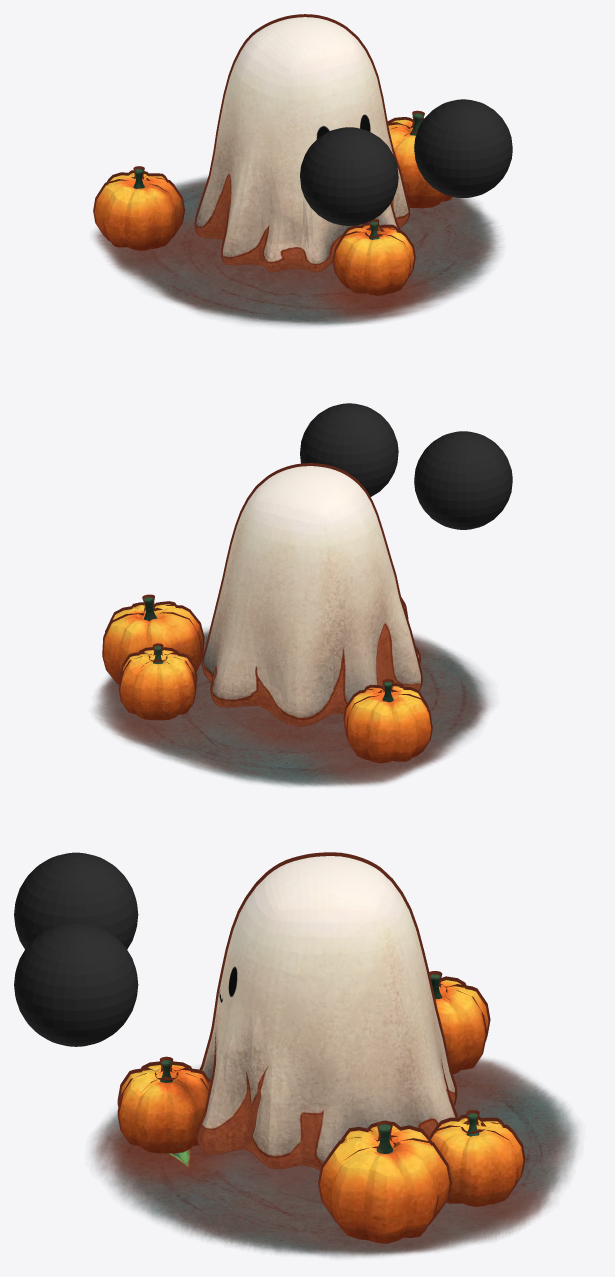
File: owl.glb
3 views of the same model, one above another, from view 1: azimuth 30°, elevation 25°; view 2: azimuth 150°, elevation 25°; view 3: azimuth 270°, elevation 25° (orthographic). The views are drawn at different scales.
Visible parts, largest first — view 1: RPG_OwlBase; view 2: RPG_OwlBase; view 3: RPG_OwlBase.
Boxes of the visible parts, x1=… form: RPG_OwlBase: x1=93, y1=14, x2=512, y2=326; RPG_OwlBase: x1=93, y1=403, x2=512, y2=786; RPG_OwlBase: x1=14, y1=852, x2=578, y2=1257.
Size of the model in its own units: 0.386 by 0.2288 by 0.425.
Materials: 4 (2 with a texture image).
